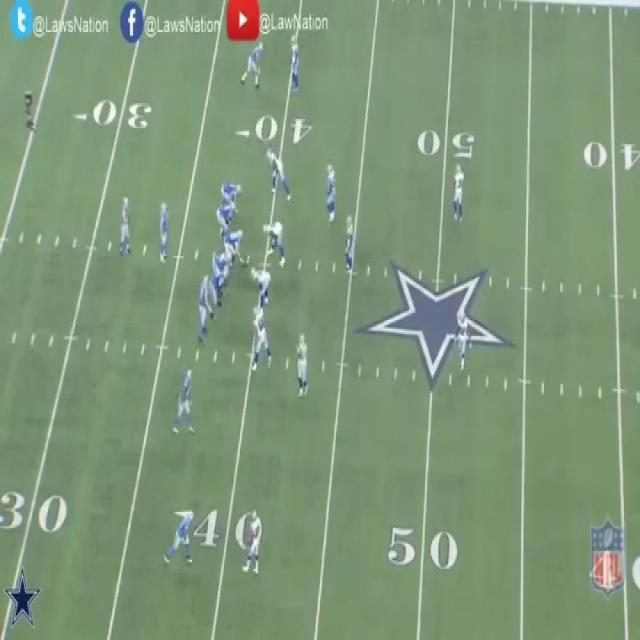center: (228, 226, 247, 268)
db: (456, 310, 469, 371), (288, 35, 302, 89), (249, 514, 260, 574), (454, 165, 463, 222)
lb: (292, 337, 311, 389), (325, 162, 338, 218), (344, 215, 354, 276)
qb: (161, 199, 166, 261)
